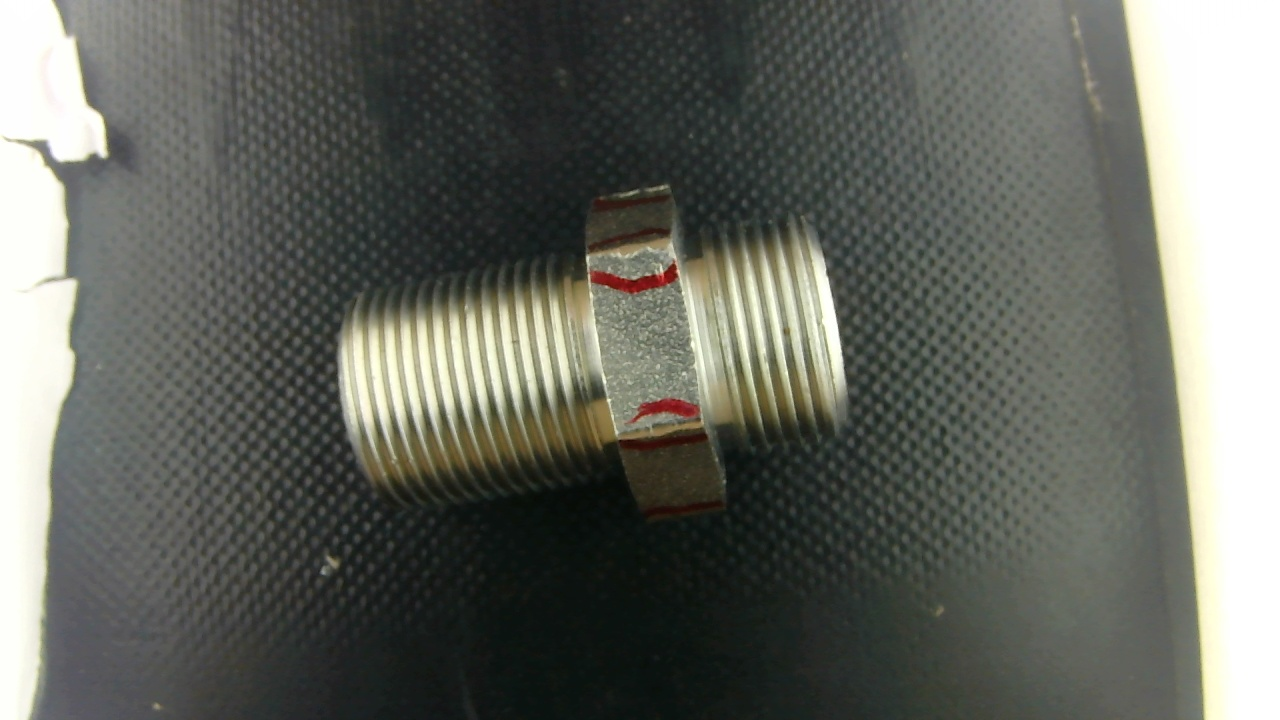Hex_damage: (584, 237, 679, 283)
